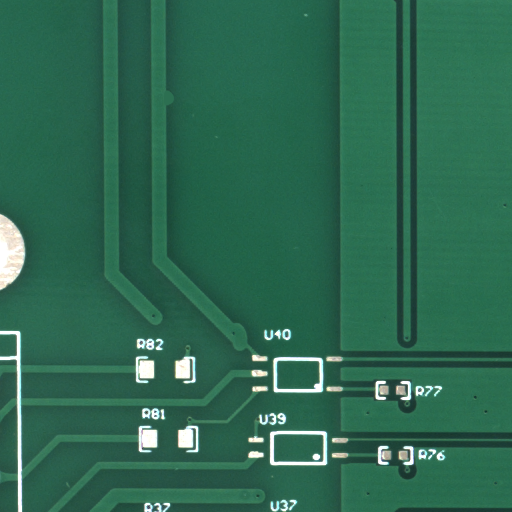Spur: (169, 98, 178, 117)
